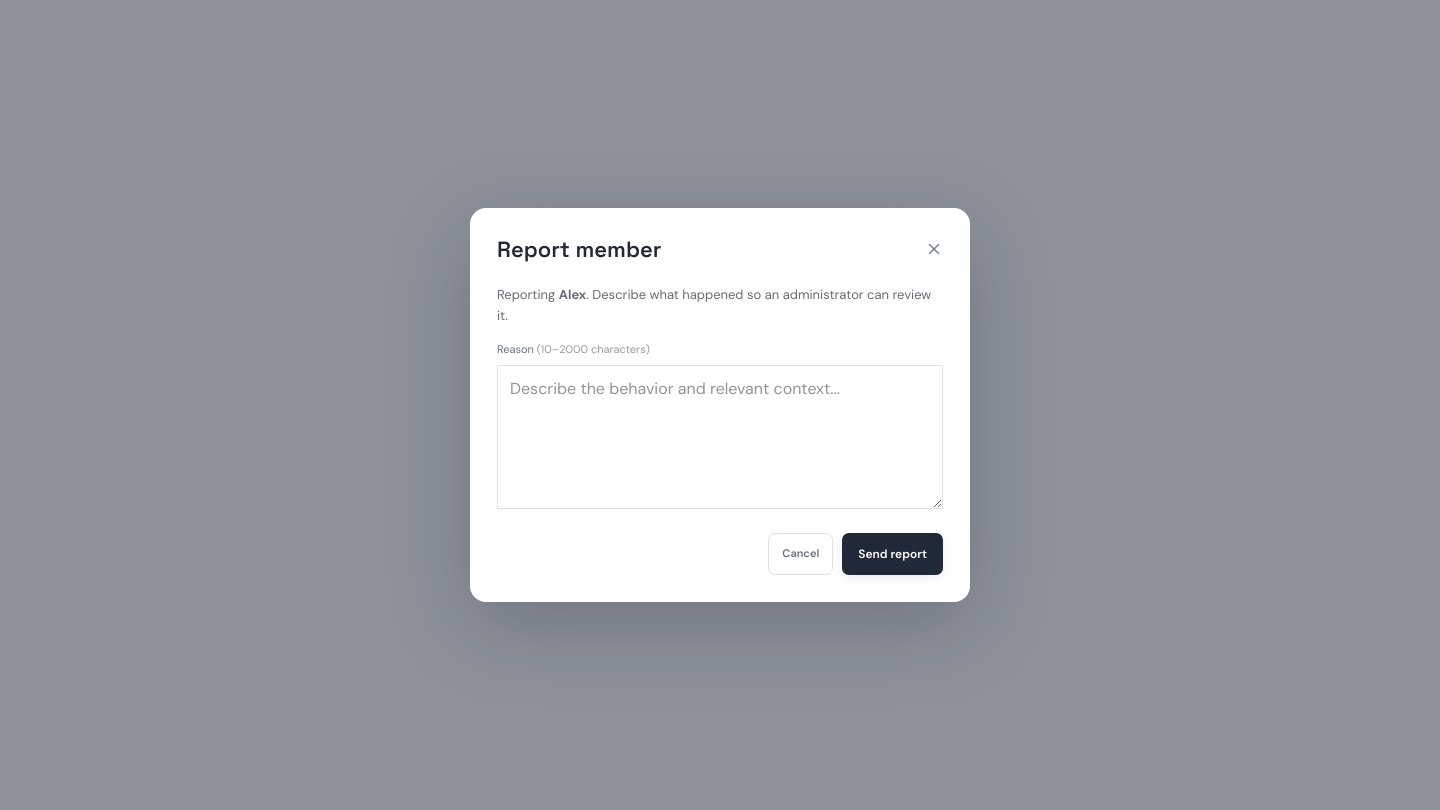
Test: requires a reason and submits the selected report target
The image size is (1440, 810).
Expected: the button "Send report" is disabled, [842, 532, 943, 574]
Type "Repeated harassment in group chat" into the text box labelled "Reason (10–2000 characters)" at (720, 436), box [497, 364, 943, 508]
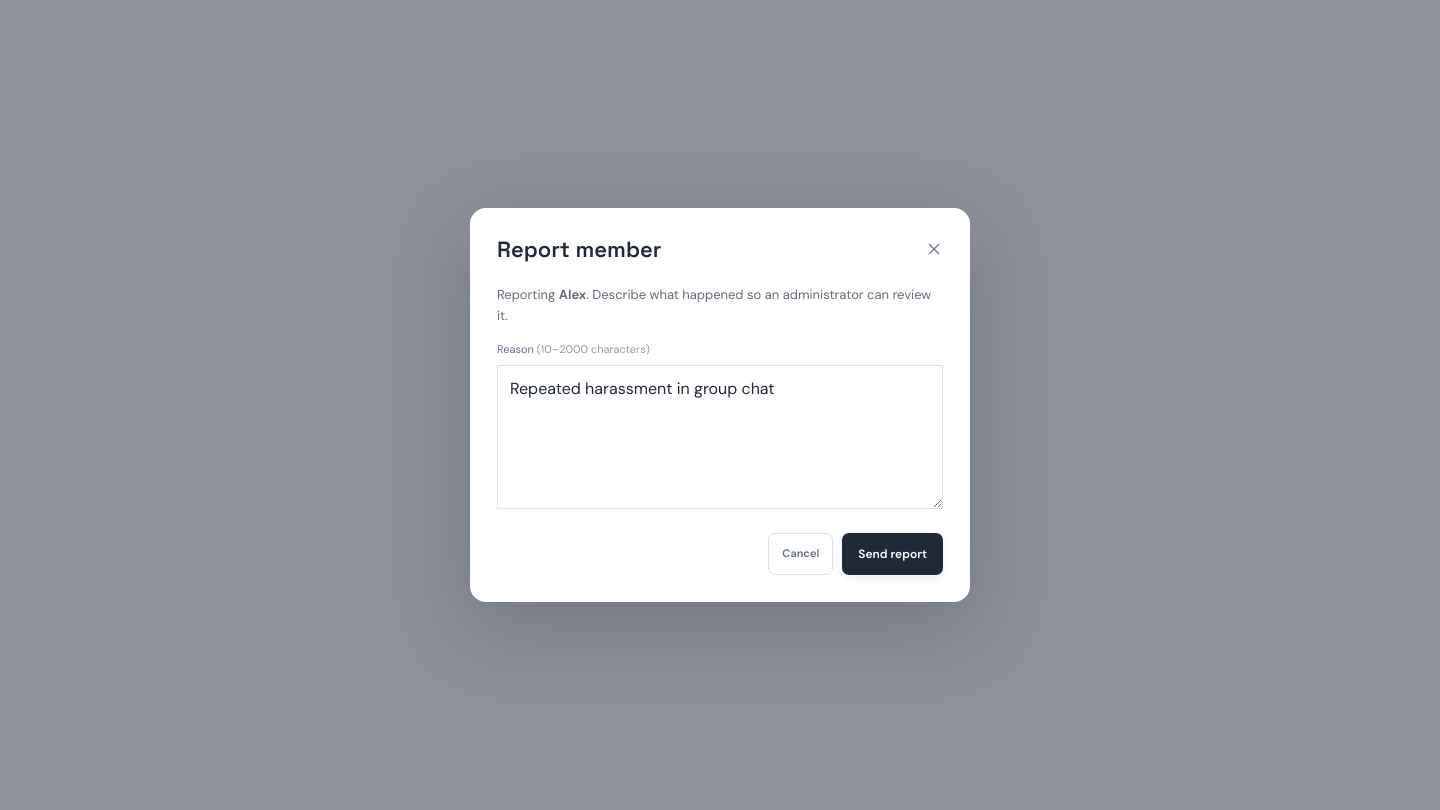
Click the button "Send report" at (893, 554), box [842, 532, 943, 574]
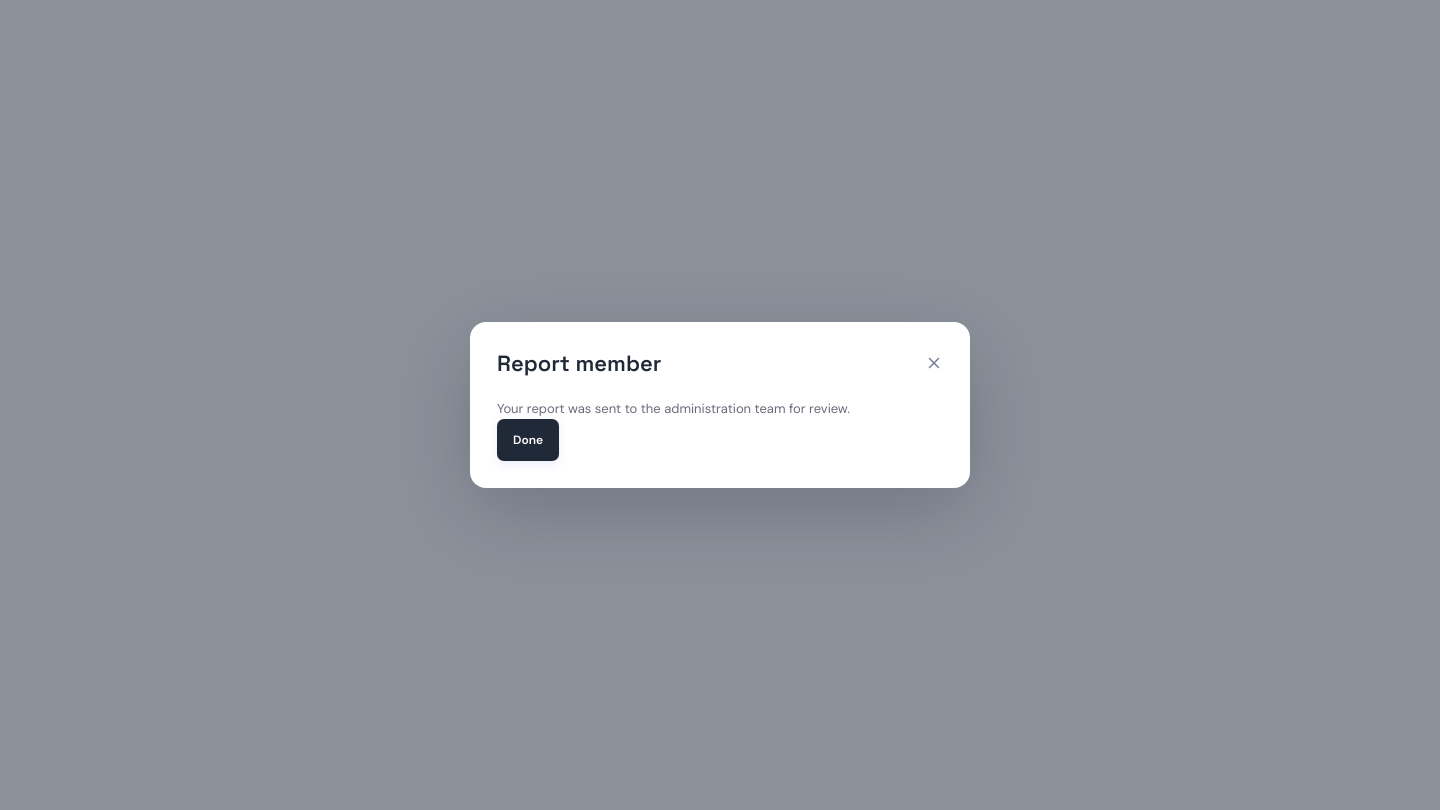
Expected: the message shows "sent", [497, 400, 850, 417]
